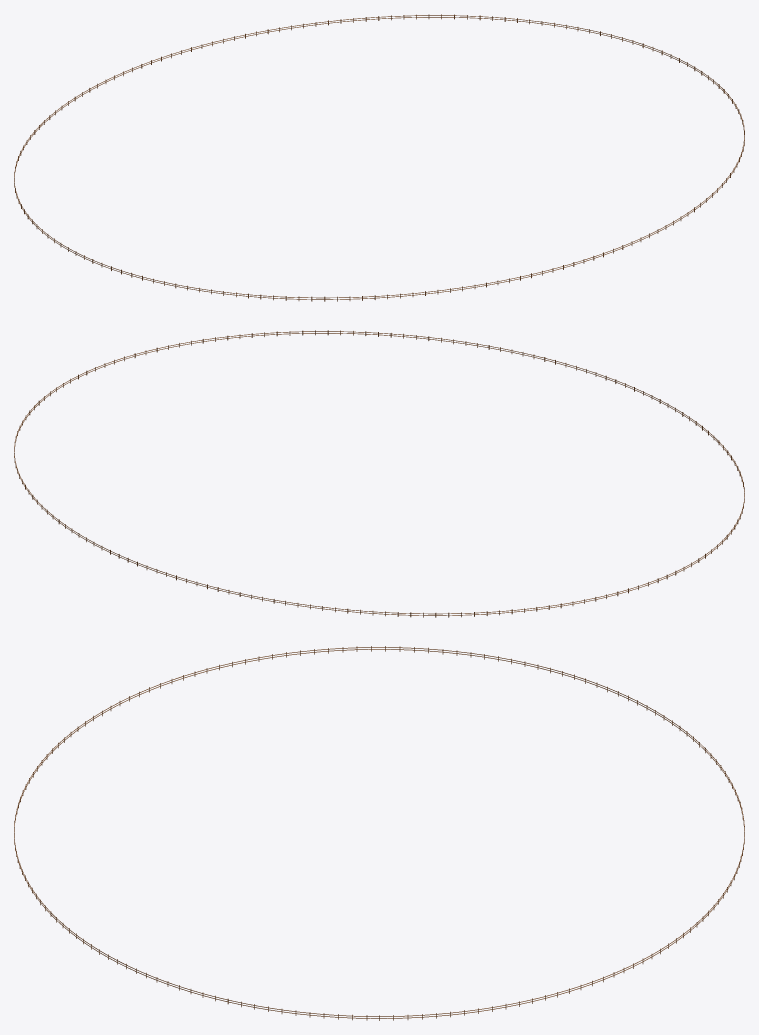
The model's file is park_fence.glb.
3 renders of one model, top to bottom at view 1: azimuth 30°, elevation 25°; view 2: azimuth 150°, elevation 25°; view 3: azimuth 270°, elevation 25°, orthographic. The views are drawn at different scales.
Visible parts, largest first — view 1: Fence; view 2: Fence; view 3: Fence.
Part boxes in pixels (left/top/right/bottom): Fence: left=14, top=14, right=744, bottom=301; Fence: left=14, top=330, right=744, bottom=617; Fence: left=14, top=646, right=744, bottom=1020.
Size of the model in its own units: 183 by 1.25 by 153.
